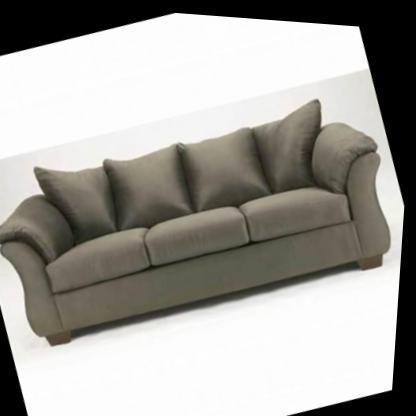Sofa: (0, 59, 413, 376)
